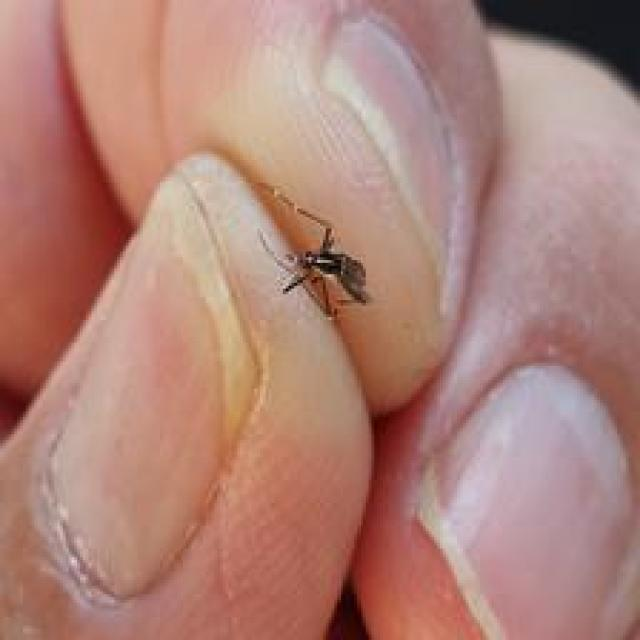Aedes albopictus: (256, 187, 373, 322)
